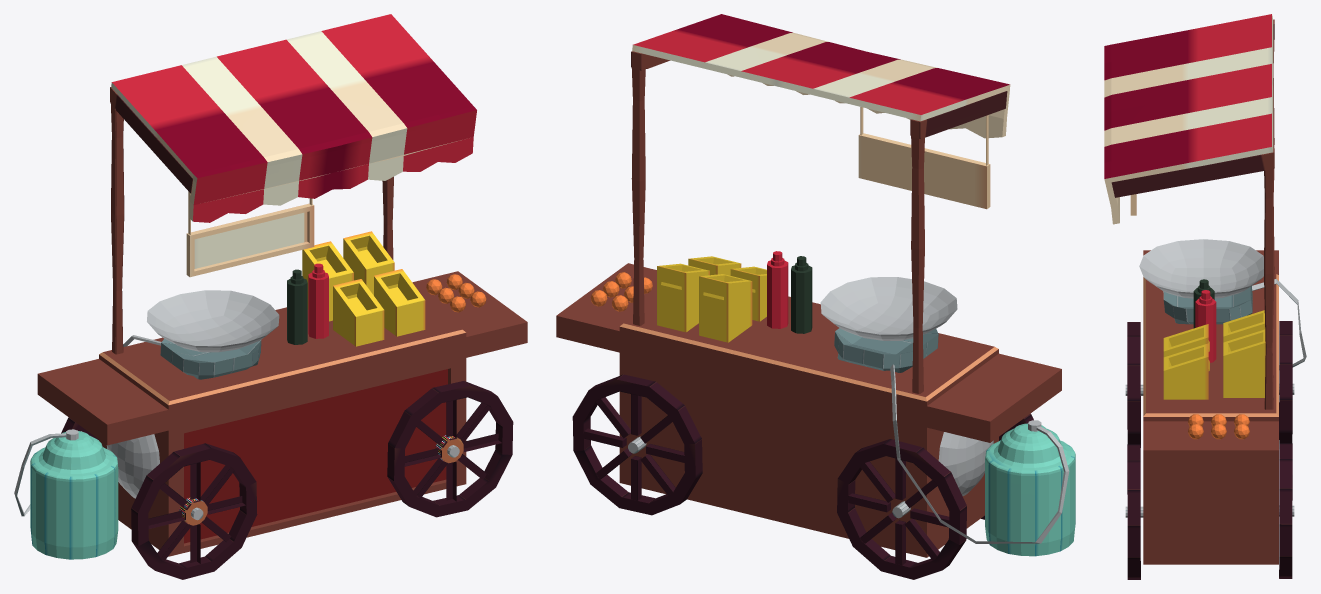
Rendered from street-food-cart.fbx.
3 views of the same model, side by side, from view 1: azimuth 30°, elevation 25°; view 2: azimuth 150°, elevation 25°; view 3: azimuth 270°, elevation 25° (orthographic). The views are drawn at different scales.
Visible parts, largest first — view 1: Cube, Cube.001; view 2: Cube, Cube.001; view 3: Cube.
Boxes of the visible parts, box(x1,y1,x2,y2) form: Cube: box(14, 14, 527, 579); Cube.001: box(30, 431, 118, 559); Cube: box(556, 14, 1069, 579); Cube.001: box(985, 423, 1075, 556); Cube: box(1104, 14, 1306, 579).
Size of the model in its own units: 1141 by 1035 by 440.
1 material, 1 textured.
